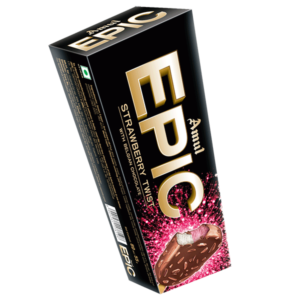Amul: (185, 112, 210, 157)
